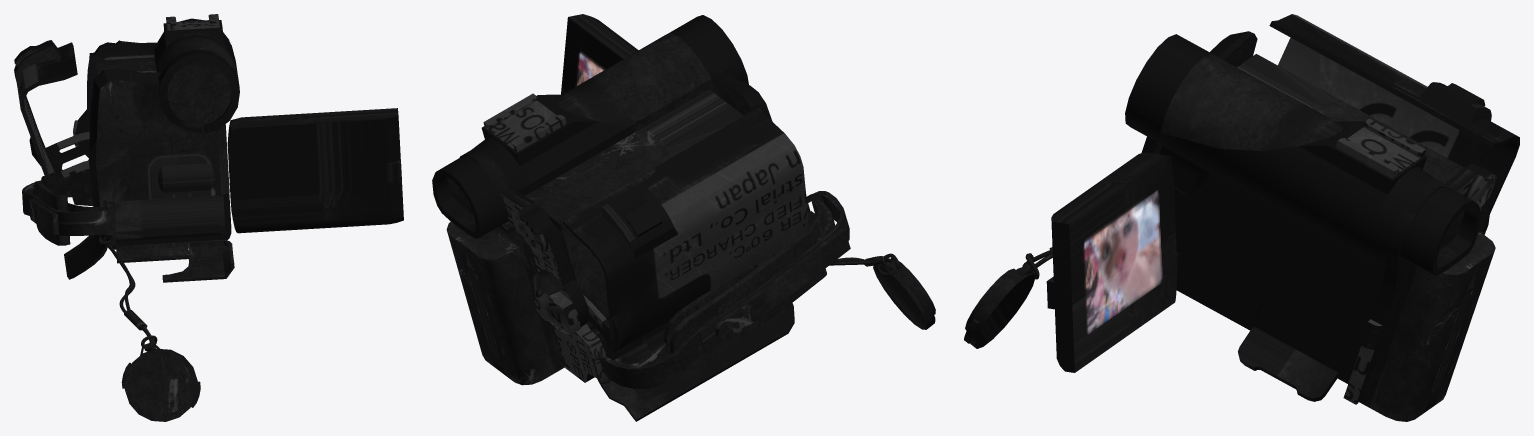
The model's file is Panasonic NV-GS5 DV-Camera-Packed-NoAO-.fbx.
3 views of the same model, side by side, from view 1: azimuth 30°, elevation 25°; view 2: azimuth 150°, elevation 25°; view 3: azimuth 270°, elevation 25° (orthographic). The views are drawn at different scales.
Visible parts, largest first — view 1: Body, Display, Tape_cover, Lens_cover, Handle, R_Output_cover, L_Output_cover, Input_cover, Rope; view 2: Body, Tape_cover, Handle, Battery, Input_cover, EVF, Display, Lens_cover, Rope; view 3: Body, Display, Tape_cover, Battery, EVF, Card_cover, Lens_cover, Rotation_shaft.
Part boxes in pixels (bbox=[...]): Body: bbox=[70, 14, 239, 249]; Display: bbox=[227, 108, 403, 233]; Tape_cover: bbox=[14, 40, 90, 194]; Lens_cover: bbox=[121, 342, 200, 421]; Handle: bbox=[22, 175, 115, 245]; R_Output_cover: bbox=[162, 239, 234, 282]; L_Output_cover: bbox=[116, 242, 188, 263]; Input_cover: bbox=[64, 235, 107, 279]; Rope: bbox=[99, 233, 157, 351]; Body: bbox=[459, 15, 824, 382]; Tape_cover: bbox=[563, 107, 808, 352]; Handle: bbox=[593, 191, 850, 388]; Battery: bbox=[446, 221, 564, 385]; Input_cover: bbox=[597, 303, 794, 421]; EVF: bbox=[432, 150, 511, 238]; Display: bbox=[561, 14, 638, 94]; Lens_cover: bbox=[873, 258, 935, 329]; Rope: bbox=[829, 253, 899, 276]; Body: bbox=[1125, 31, 1496, 404]; Display: bbox=[1046, 152, 1176, 372]; Tape_cover: bbox=[1269, 14, 1519, 234]; Battery: bbox=[1358, 232, 1495, 421]; EVF: bbox=[1400, 185, 1481, 276]; Card_cover: bbox=[1238, 326, 1337, 401]; Lens_cover: bbox=[964, 263, 1034, 348]; Rotation_shaft: bbox=[1174, 187, 1196, 249].
Size of the model in its own units: 195 by 179 by 241.
Materials: 2 (2 with a texture image).
